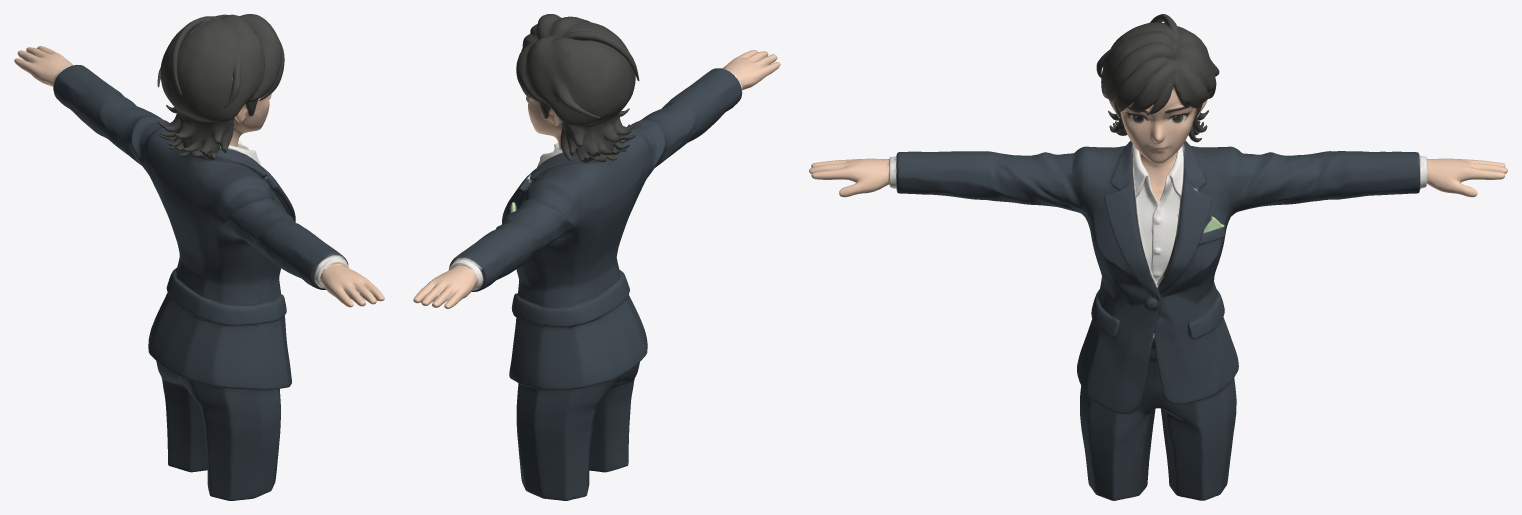
3 views of the same model, side by side, from view 1: azimuth 30°, elevation 25°; view 2: azimuth 150°, elevation 25°; view 3: azimuth 270°, elevation 25° (orthographic).
Visible parts, largest first — view 1: world; view 2: world; view 3: world.
Boxes of the visible parts, bbox=[...] form: world: bbox=[14, 14, 384, 500]; world: bbox=[413, 14, 780, 500]; world: bbox=[809, 14, 1507, 500].
Size of the model in its own units: 0.1997 by 0.7239 by 0.9996.
1 material, 1 textured.
